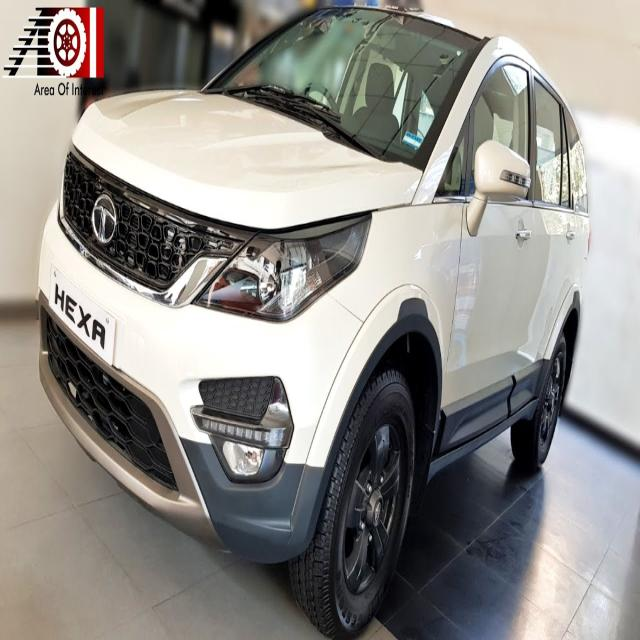Car: (39, 0, 618, 608)
